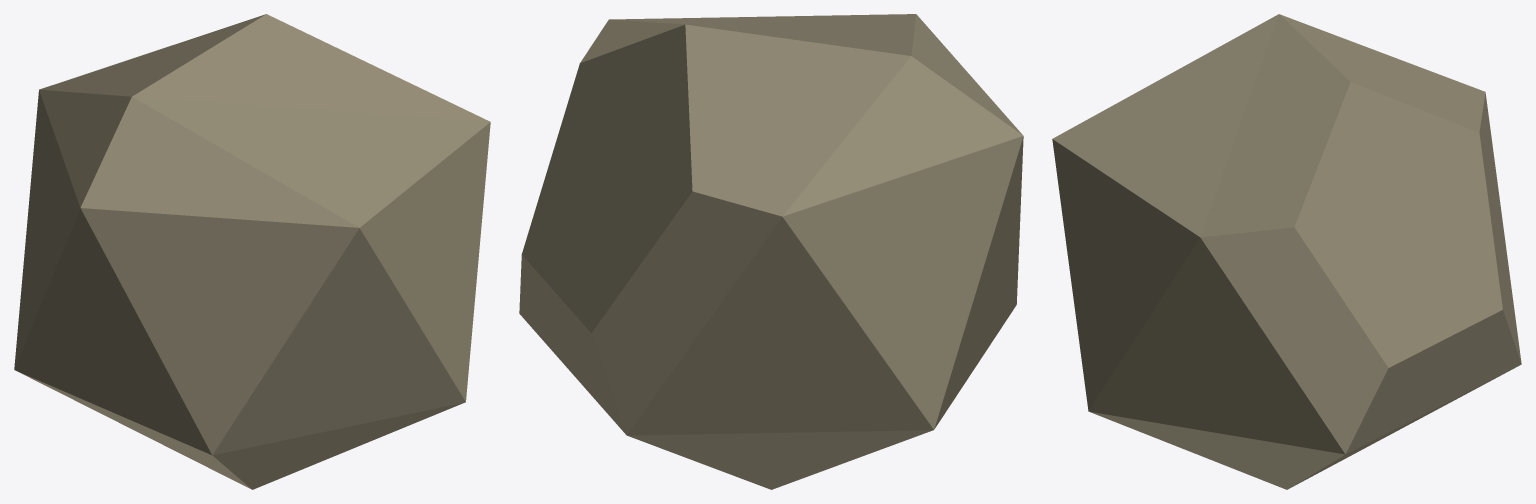
File: Stone4.fbx
3 views of the same model, side by side, from view 1: azimuth 30°, elevation 25°; view 2: azimuth 150°, elevation 25°; view 3: azimuth 270°, elevation 25° (orthographic). The views are drawn at different scales.
Parts seen in each view (by area): view 1: Icosphere.003; view 2: Icosphere.003; view 3: Icosphere.003.
Boxes of the visible parts, box(x1,y1,x2,y2) form: Icosphere.003: box(14, 14, 490, 489); Icosphere.003: box(519, 14, 1023, 489); Icosphere.003: box(1052, 14, 1521, 489).
Size of the model in its own units: 173 by 181 by 179.
